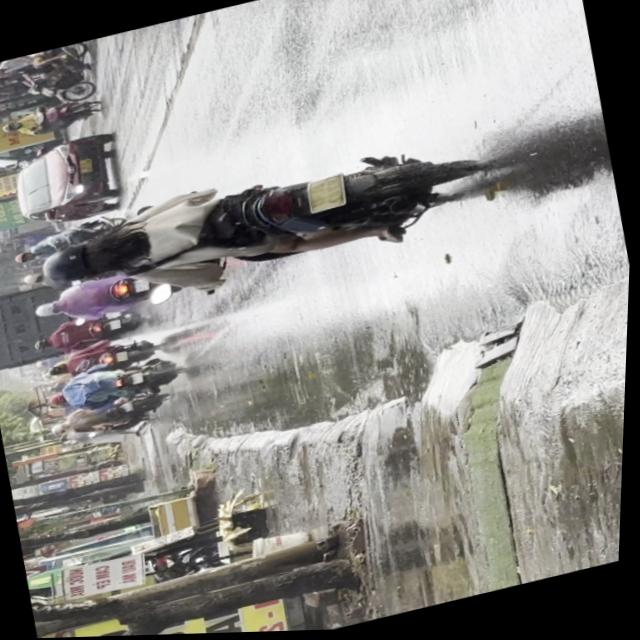helmet: (37, 235, 116, 290), (34, 297, 63, 318)
licenseplate: (9, 126, 474, 334)
nohelmet: (306, 176, 348, 214)
